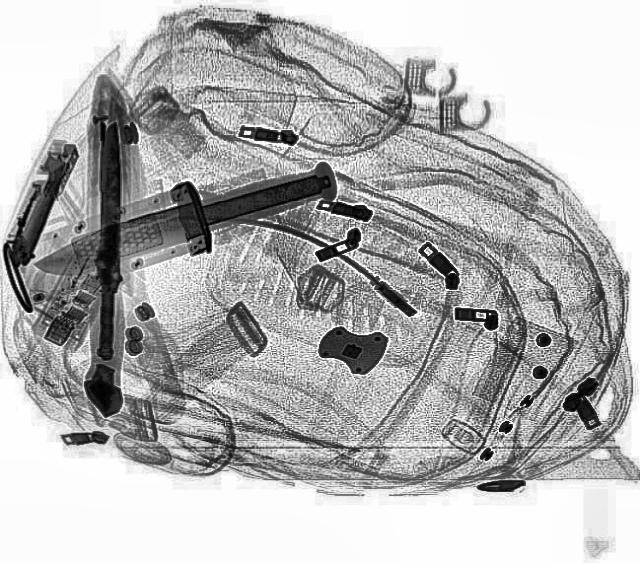Knife: (17, 141, 350, 296)
